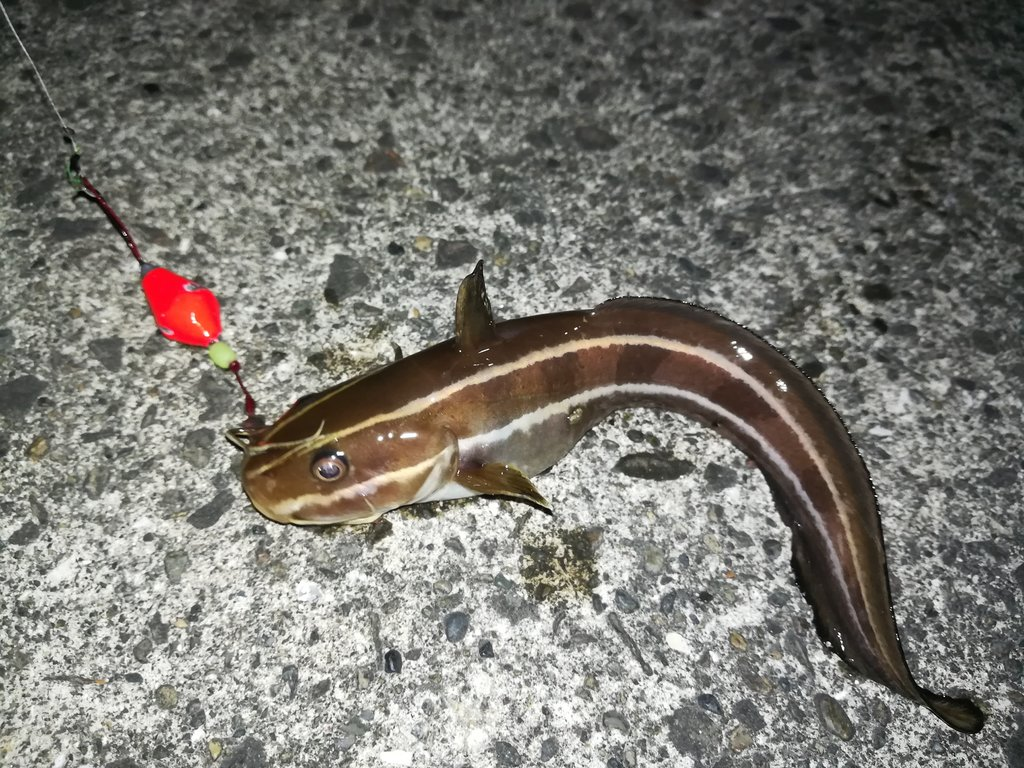gonzui: (207, 220, 1007, 756)
